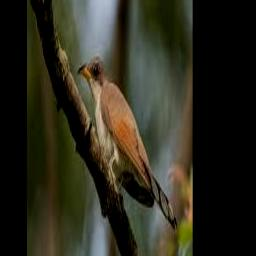Cuckoo: (77, 56, 176, 230)
